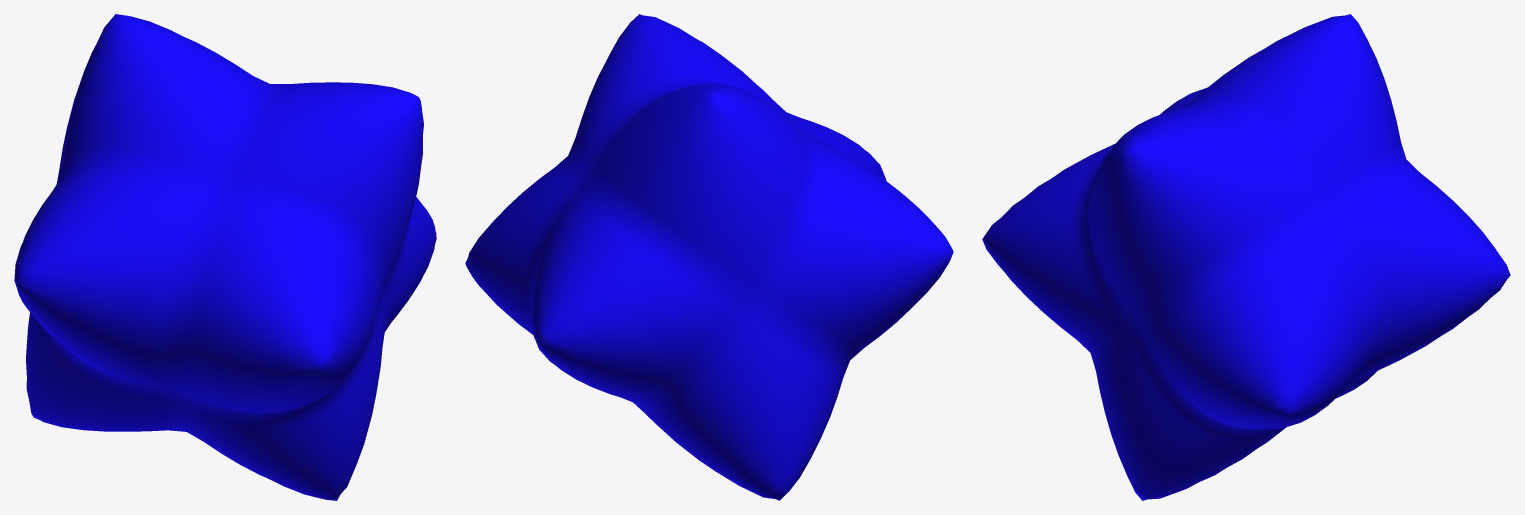
The model's file is Sponge.glb.
The picture shows the model from 3 angles, left to right: view 1: azimuth 30°, elevation 25°; view 2: azimuth 150°, elevation 25°; view 3: azimuth 270°, elevation 25°; orthographic projection. The views are drawn at different scales.
Visible parts, largest first — view 1: Sponge.001; view 2: Sponge.001; view 3: Sponge.001.
Boxes of the visible parts, box(x1,y1,x2,y2) form: Sponge.001: box(14, 14, 436, 500); Sponge.001: box(465, 14, 953, 500); Sponge.001: box(982, 14, 1510, 500).
Size of the model in its own units: 2.99 by 2.74 by 3.04.
